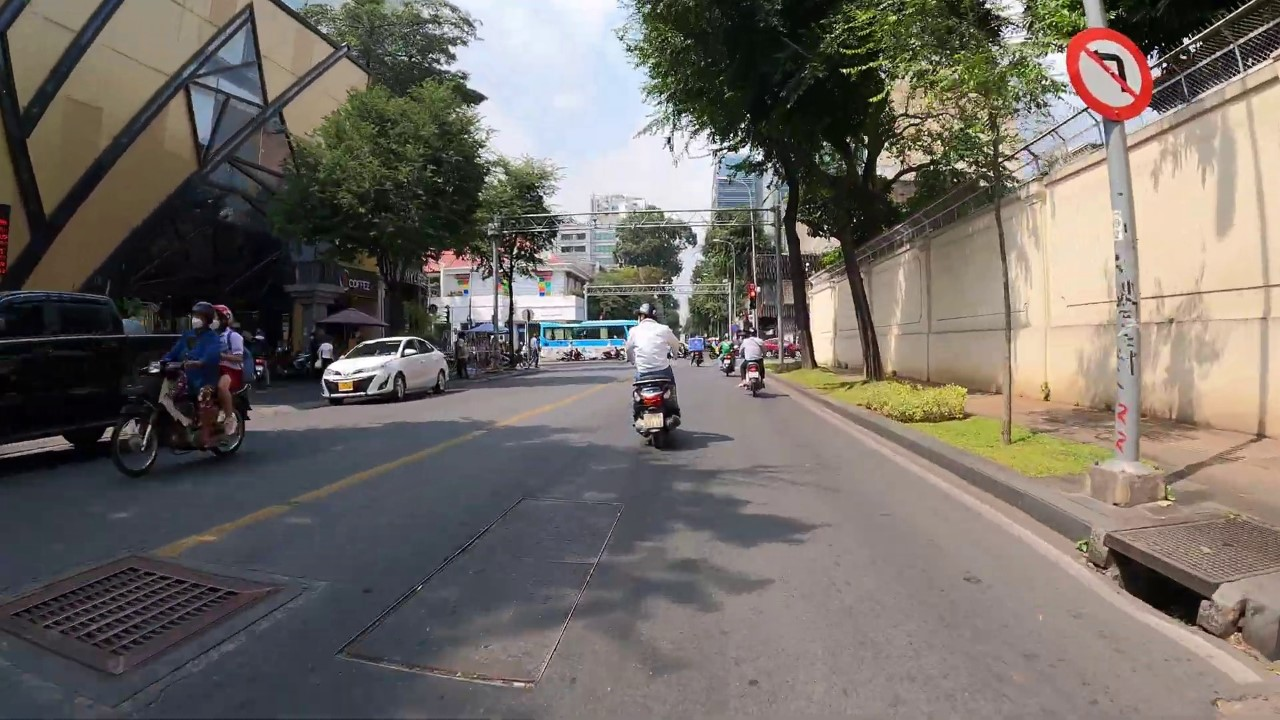cam_re_trai: (1065, 26, 1155, 122)
